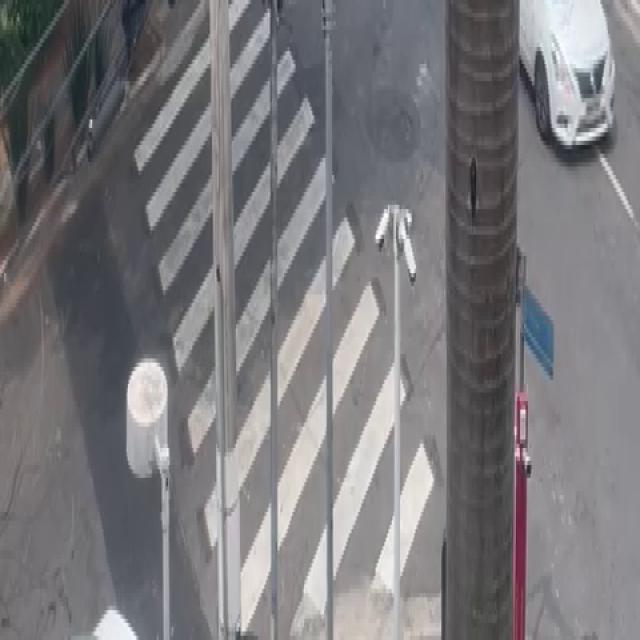car: (502, 0, 626, 160)
